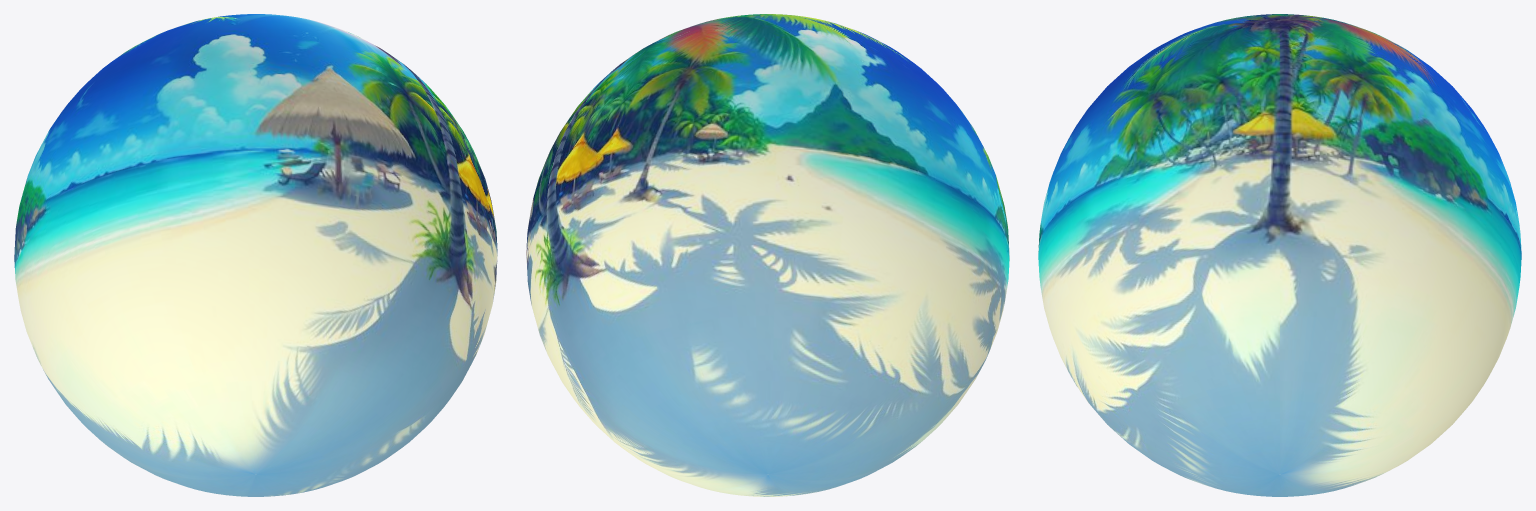
The model's file is tropical-compressed.glb.
3 renders of one model, left to right at view 1: azimuth 30°, elevation 25°; view 2: azimuth 150°, elevation 25°; view 3: azimuth 270°, elevation 25°, orthographic.
Parts seen in each view (by area): view 1: Sphere__0; view 2: Sphere__0; view 3: Sphere__0.
Part boxes in pixels (left/top/right/bottom): Sphere__0: left=14, top=14, right=497, bottom=496; Sphere__0: left=526, top=14, right=1009, bottom=496; Sphere__0: left=1038, top=14, right=1521, bottom=496.
Size of the model in its own units: 1000 by 1000 by 1000.
Materials: 1 (1 with a texture image).
